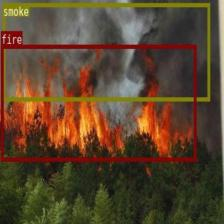fire: (0, 44, 196, 160)
smoke: (2, 2, 210, 100)
